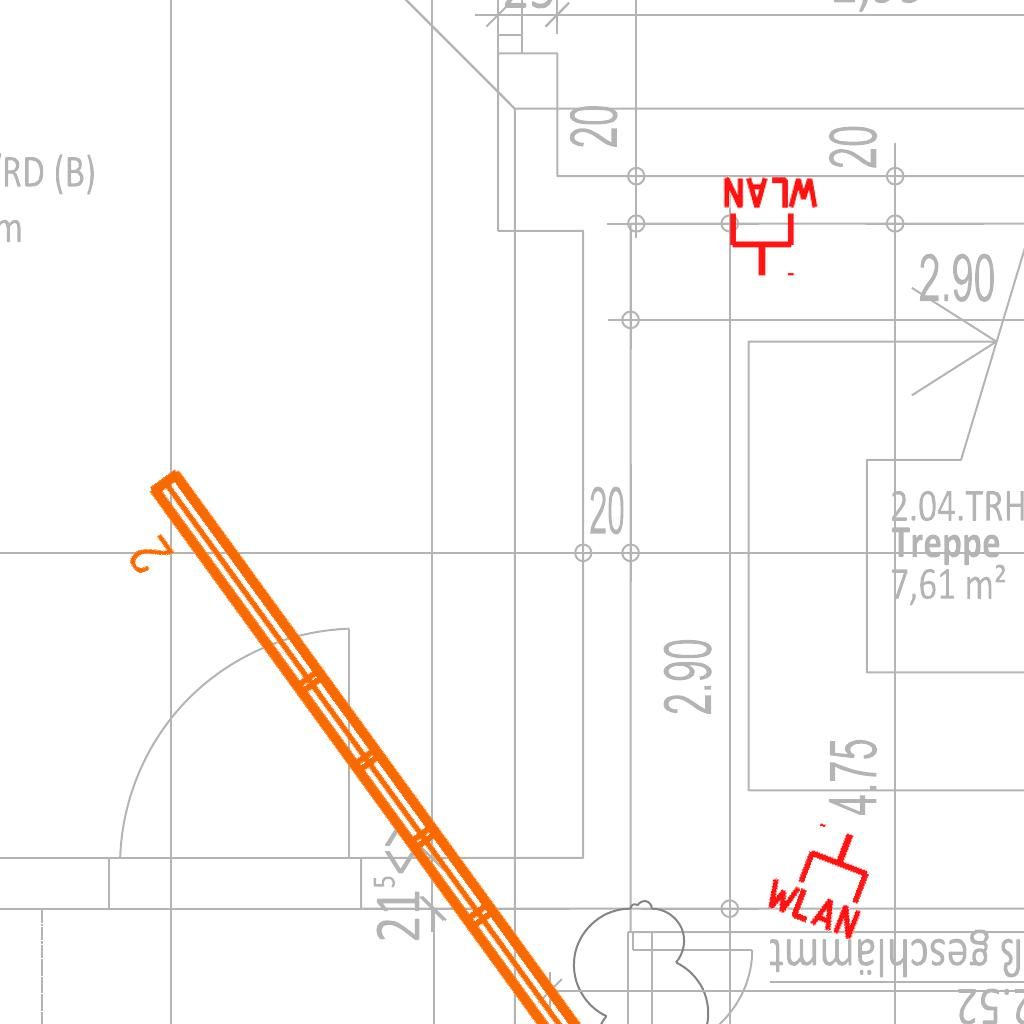Ambulanz_Pendelleuchte_LED: (91, 452, 637, 1024)
WLAN: (757, 808, 892, 944), (719, 175, 823, 280)
